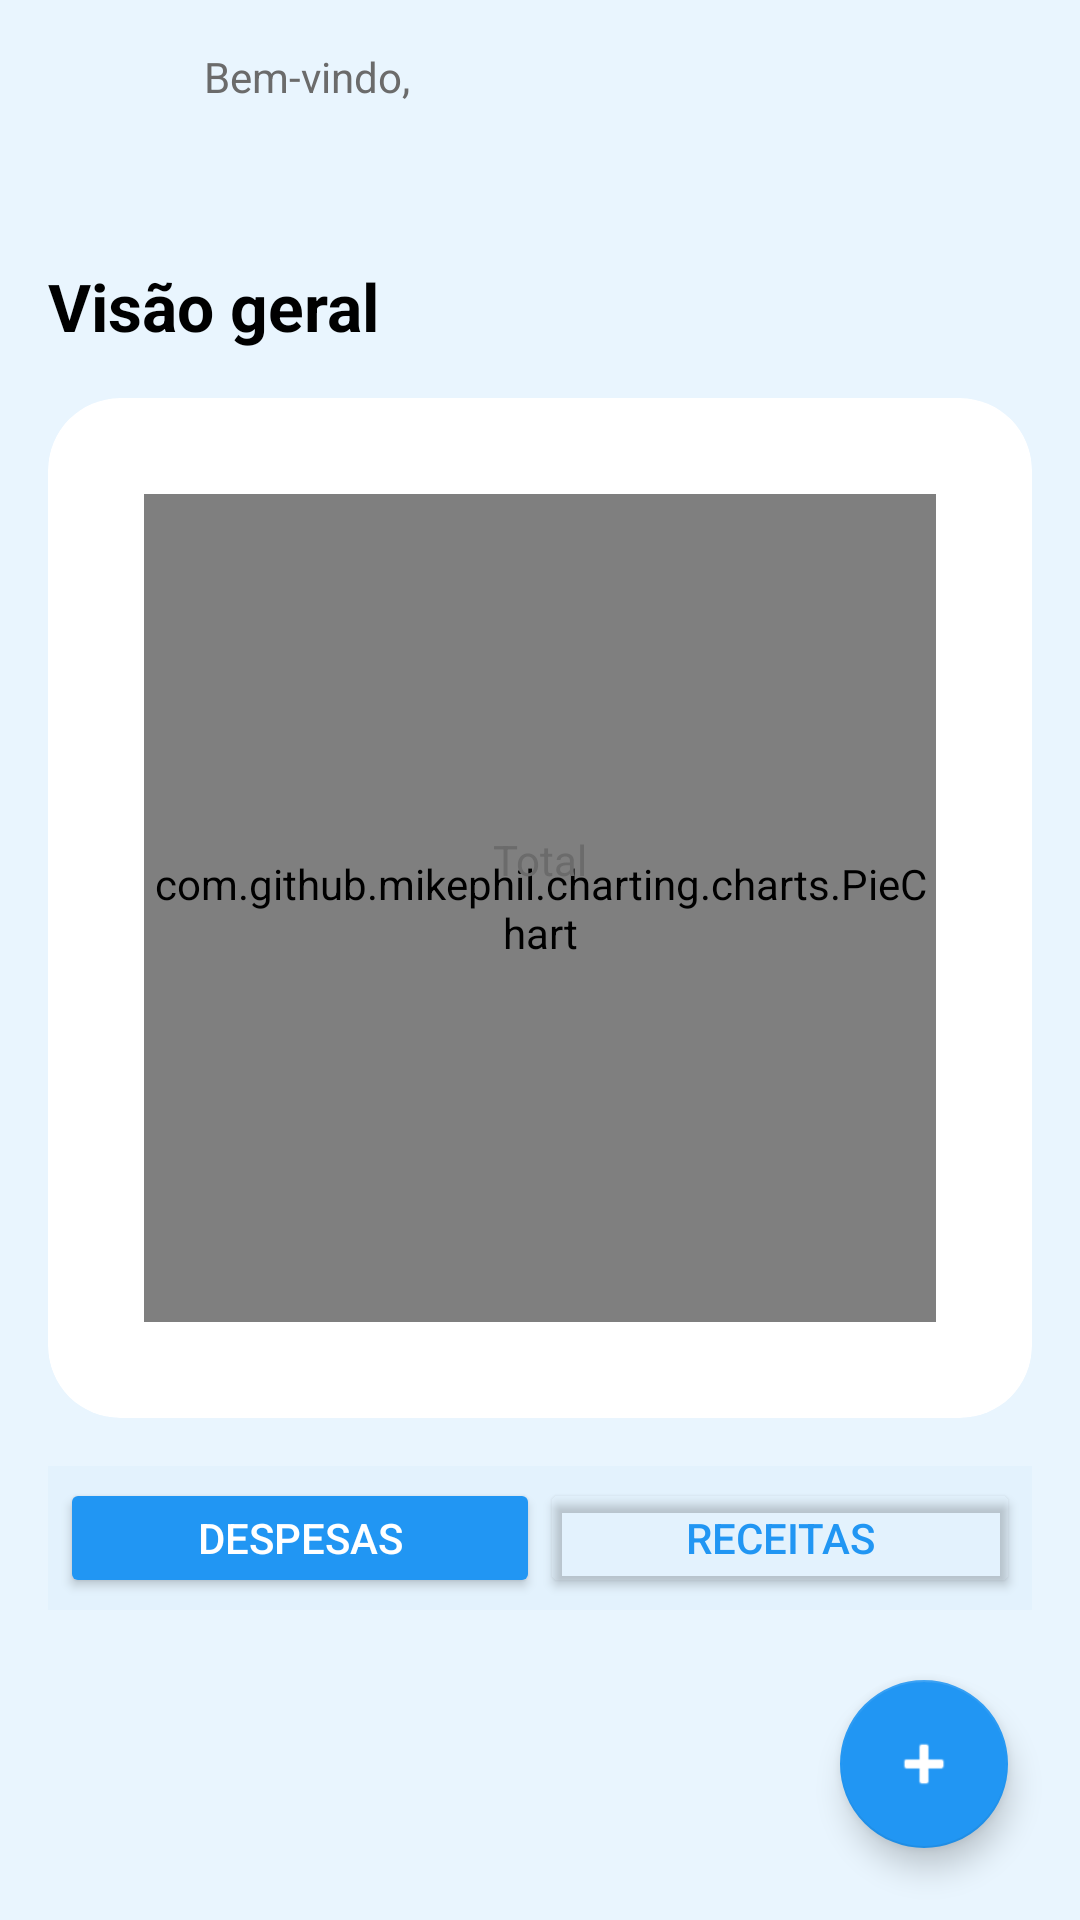

Screen size 1080px x 1920px. Icon name, then its box in pixels as box=[x1, y1, x2, y2]:
add: box=[840, 1680, 1008, 1848]
